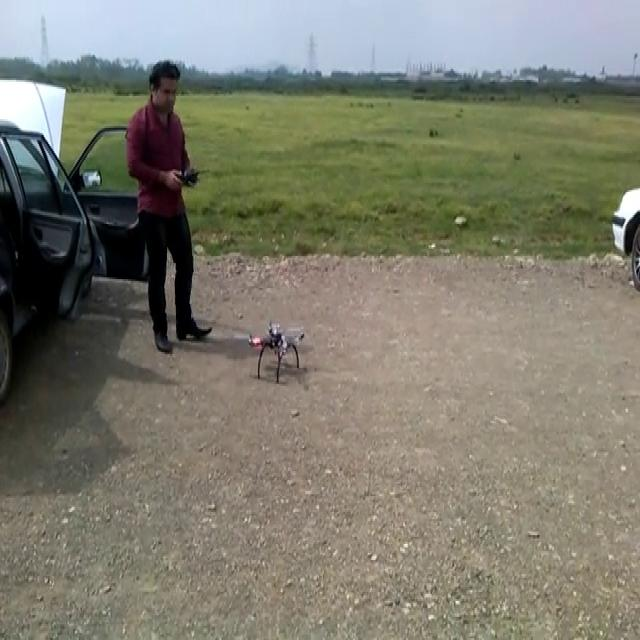drone: (237, 318, 307, 381)
